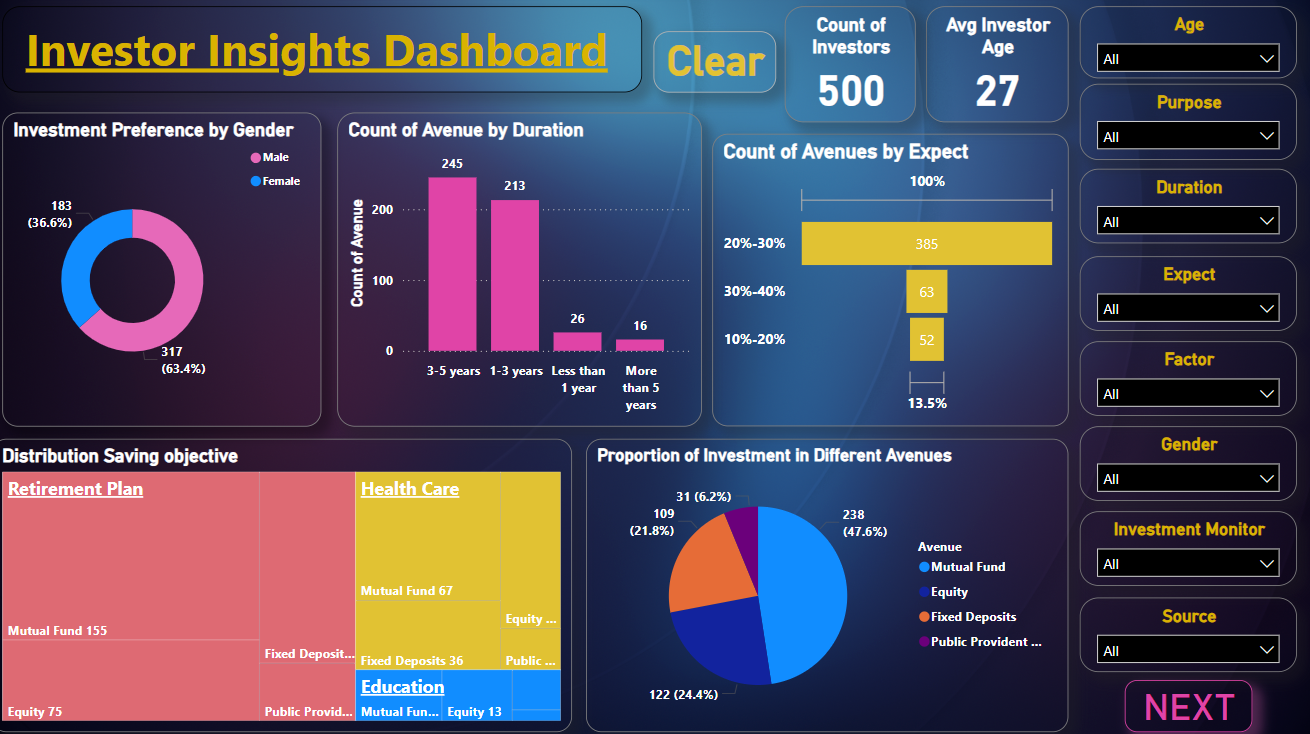

Layout of this report page (visuals, bound fields, positions):
{"tool":"powerbi","page":{"name":"Page 2","canvas":[1280,720],"ordinal":0},"visuals":[{"type":"slicer","title":"Age","fields":{"Values":["Data_set 2 - Copy.age"]},"box":[1050.8,10.9,209.9,70],"z":0},{"type":"slicer","title":"Purpose","fields":{"Values":["Data_set 2 - Copy.Purpose"]},"box":[1050.8,85.7,209.9,73.6],"z":1},{"type":"slicer","title":"Duration","fields":{"Values":["Data_set 2 - Copy.Duration"]},"box":[1050.8,167.7,209.9,72.4],"z":2},{"type":"slicer","title":"Expect","fields":{"Values":["Data_set 2 - Copy.Expect"]},"box":[1050.8,252.1,209.9,72.4],"z":3},{"type":"slicer","title":"Factor","fields":{"Values":["Data_set 2 - Copy.Factor"]},"box":[1050.8,334.2,209.9,72.4],"z":4},{"type":"slicer","title":"Gender","fields":{"Values":["Data_set 2 - Copy.gender"]},"box":[1050.8,416.2,209.9,72.4],"z":5},{"type":"slicer","title":"Investment Monitor ","fields":{"Values":["Data_set 2 - Copy.Invest_Monitor"]},"box":[1050.8,498.3,209.9,72.4],"z":6},{"type":"slicer","title":"Source ","fields":{"Values":["Data_set 2 - Copy.Source"]},"box":[1050.8,581.5,209.9,72.4],"z":7},{"type":"card","title":"Avg Investor Age","fields":{"Values":["Avg(Data_set 2 - Copy.age)"]},"box":[886.7,10.9,153.2,112.2],"z":8},{"type":"treemap","title":"Distribution Saving objective","fields":{"Group":["Data_set 2 - Copy.What are your savings objectives?"],"Details":["Data_set 2 - Copy.Avenue"],"Values":["CountNonNull(Data_set 2 - Copy.Avenue)"]},"box":[0,428.3,561,283.5],"z":9},{"type":"pieChart","title":"Proportion of Investment in Different Avenues ","fields":{"Category":["Data_set 2 - Copy.Avenue"],"Y":["Count(Data_set 2 - Copy.Index)"]},"box":[574.3,428.3,465.7,283.5],"z":10},{"type":"donutChart","title":"Investment Preference by Gender","fields":{"Category":["Data_set 2 - Copy.gender"],"Y":["Count(Data_set 2 - Copy.Index)"]},"box":[10.9,113.4,307.6,302.8],"z":11},{"type":"columnChart","fields":{"Category":["Data_set 2 - Copy.Duration"],"Y":["CountNonNull(Data_set 2 - Copy.Avenue)"]},"box":[334.2,113.4,352.3,302.8],"z":12},{"type":"textbox","box":[10.9,10.9,675.6,83.2],"z":13},{"type":"shape","title":"NEXT","box":[1094.2,661.1,123.1,50.7],"z":14},{"type":"funnel","title":"Count of Avenues by Expect","fields":{"Category":["Data_set 2 - Copy.Expect"],"Y":["CountNonNull(Data_set 2 - Copy.Index)"]},"box":[696.1,133.9,343.8,282.3],"z":15},{"type":"shape","title":"Clear","box":[714.2,38.6,154.4,59.1],"z":16}]}

Visuals, with their boxes in screenshot pixels (x1, y1, x2, y2), scaled from the page's 1280x720 canvas onto the 1310x734 screenshot:
"Age" slicer: bbox=(1075, 11, 1290, 82)
"Purpose" slicer: bbox=(1075, 87, 1290, 162)
"Duration" slicer: bbox=(1075, 171, 1290, 245)
"Expect" slicer: bbox=(1075, 257, 1290, 331)
"Factor" slicer: bbox=(1075, 341, 1290, 415)
"Gender" slicer: bbox=(1075, 424, 1290, 498)
"Investment Monitor " slicer: bbox=(1075, 508, 1290, 582)
"Source " slicer: bbox=(1075, 593, 1290, 667)
"Avg Investor Age" card: bbox=(907, 11, 1064, 125)
"Distribution Saving objective" treemap: bbox=(0, 437, 574, 726)
"Proportion of Investment in Different Avenues " pieChart: bbox=(588, 437, 1064, 726)
"Investment Preference by Gender" donutChart: bbox=(11, 116, 326, 424)
columnChart - Data_set 2 - Copy.Duration x CountNonNull(Data_set 2 - Copy.Avenue): bbox=(342, 116, 703, 424)
textbox: bbox=(11, 11, 703, 96)
"NEXT" shape: bbox=(1120, 674, 1246, 726)
"Count of Avenues by Expect" funnel: bbox=(712, 137, 1064, 424)
"Clear" shape: bbox=(731, 39, 889, 100)
